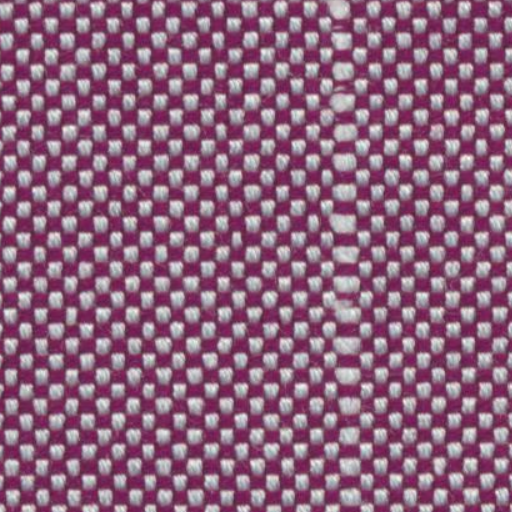DaiSha: (308, 11, 388, 496)
